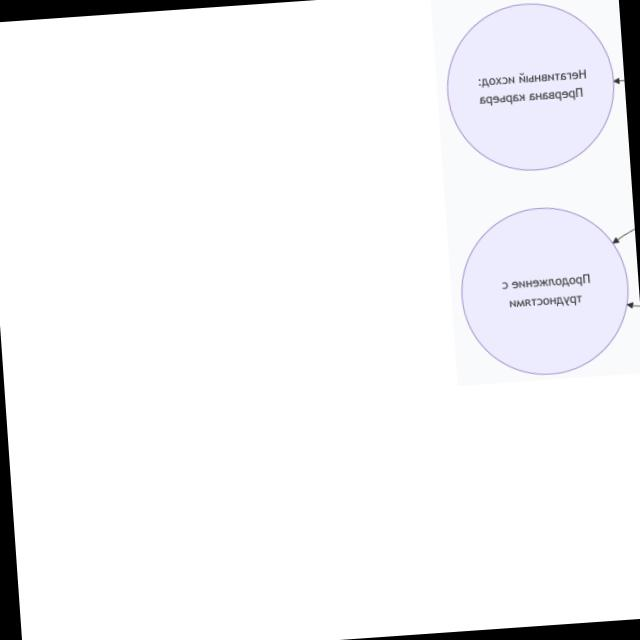circle: (437, 0, 621, 179), (457, 203, 631, 379)
